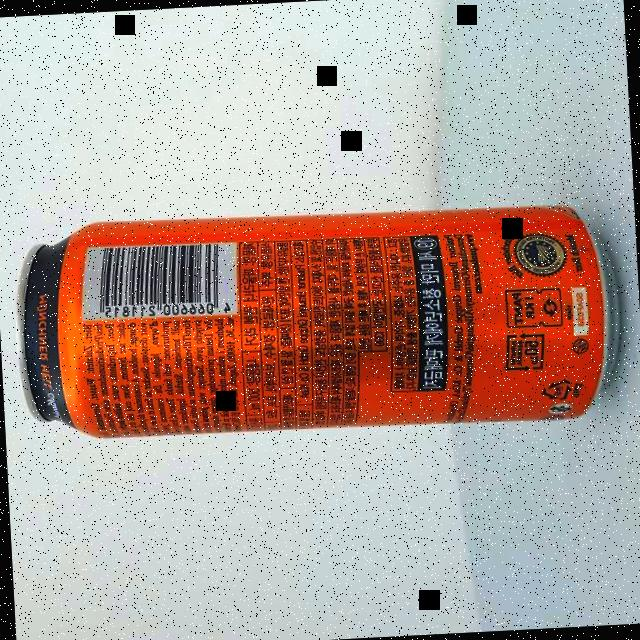can: (10, 194, 626, 446)
